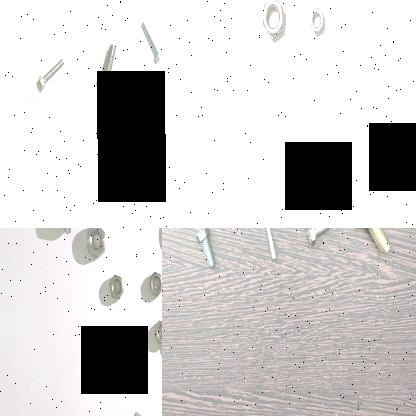Bolts: (32, 48, 68, 102), (96, 35, 120, 90), (352, 228, 390, 262), (138, 18, 162, 69), (194, 228, 221, 271), (305, 228, 331, 253), (260, 228, 278, 264), (61, 228, 90, 238)
NUTS: (261, 0, 290, 45), (310, 5, 331, 48), (86, 228, 106, 260), (108, 272, 124, 302), (149, 270, 162, 298), (152, 317, 162, 345)
